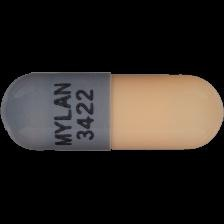54868-6203: (0, 0, 224, 224)
